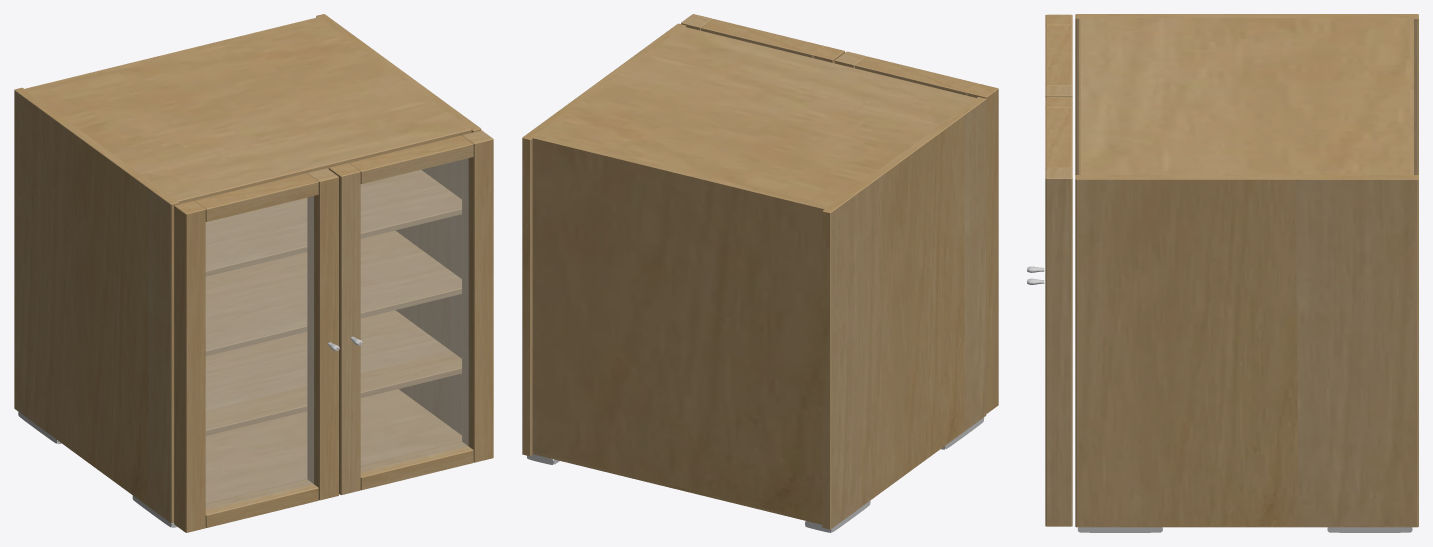
File: sh-bs0-bookcase.glb
3 renders of one model, left to right at view 1: azimuth 30°, elevation 25°; view 2: azimuth 150°, elevation 25°; view 3: azimuth 270°, elevation 25°, orthographic. The views are drawn at different scales.
Parts seen in each view (by area): view 1: Cube.011_Cube.016, Plane, BezierCurve_Mesh; view 2: Cube.011_Cube.016, BezierCurve_Mesh; view 3: Cube.011_Cube.016, BezierCurve_Mesh.
Boxes of the visible parts, x1,y1,x2,y2 form: Cube.011_Cube.016: (14, 14, 493, 532); Plane: (206, 158, 468, 509); BezierCurve_Mesh: (18, 336, 362, 527); Cube.011_Cube.016: (522, 14, 998, 529); BezierCurve_Mesh: (527, 417, 984, 532); Cube.011_Cube.016: (1045, 14, 1418, 527); BezierCurve_Mesh: (1027, 266, 1412, 532).
Size of the model in its own units: 1 by 1 by 1.
3 materials, 1 textured.
